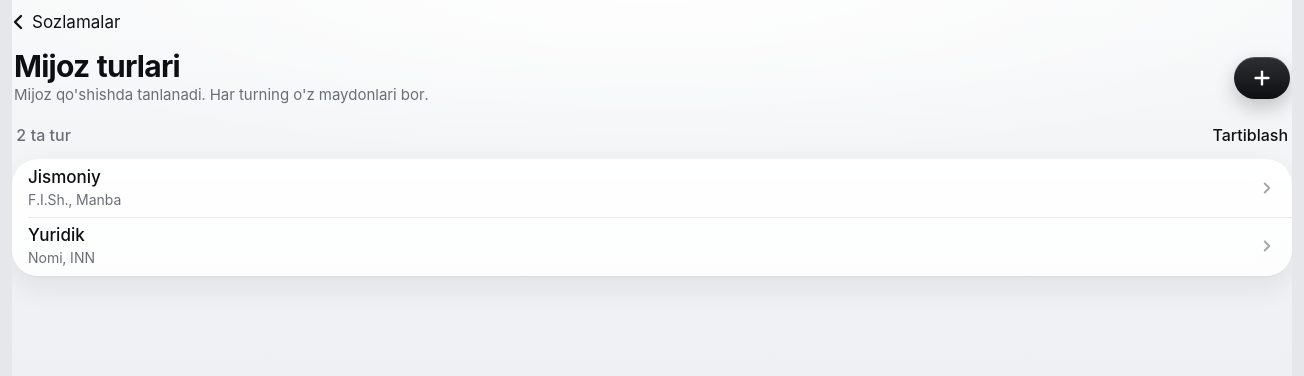
Scenario: the customer types are put in order in the «Tartiblash» mode from the keyboard and the order is saved; an order the API refuses is taken back, with the reason
Click the button "Tartiblash" at (1250, 135), box [1212,119,1288,151]
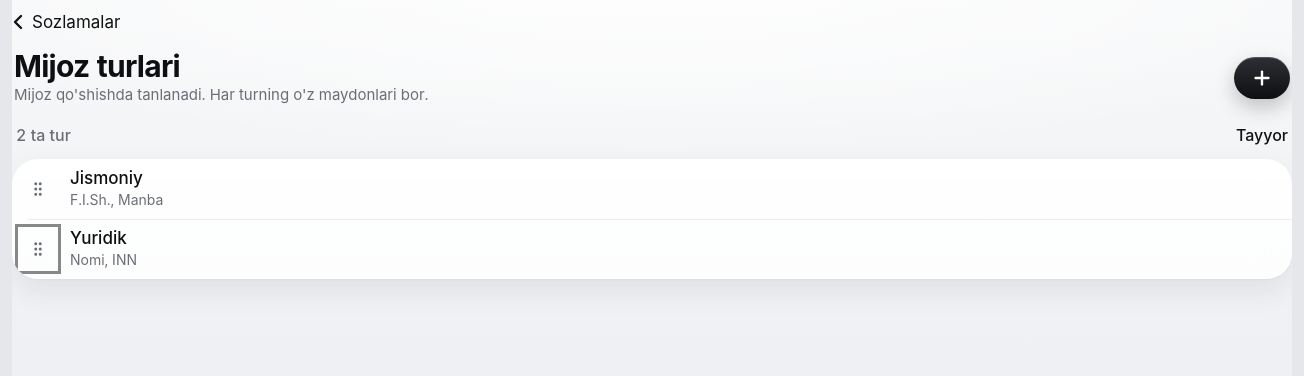
Press Arrowup
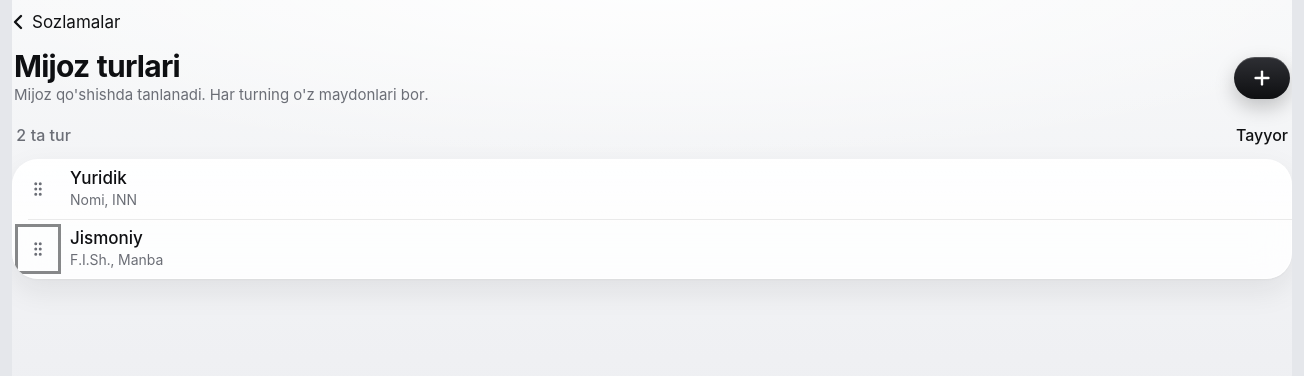
Press Arrowup
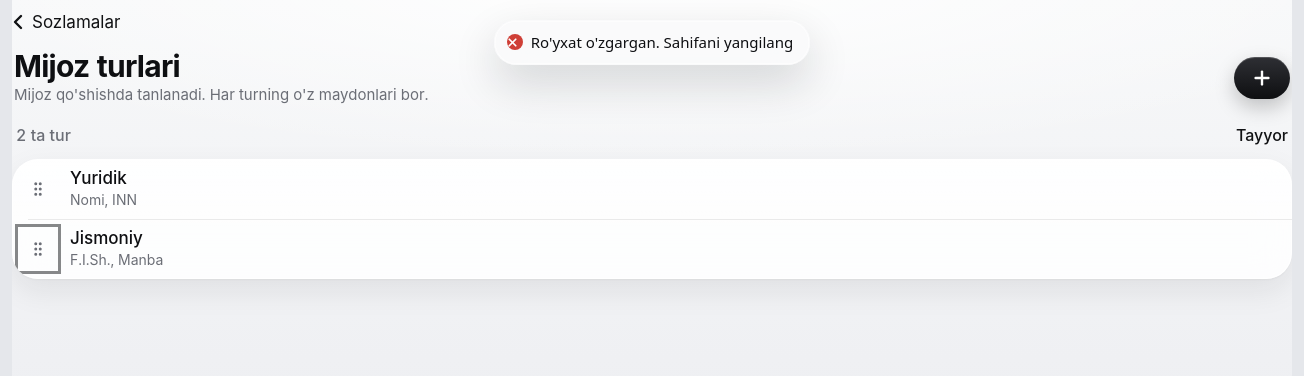
Expected: the text "Ro'yxat o'zgargan. Sahifani yangilang" is shown, [531,31,793,54]
